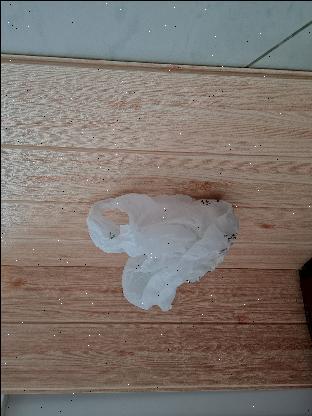Others: (83, 192, 236, 310)
